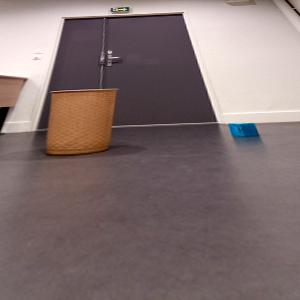medium: (47, 88, 115, 154)
small: (229, 121, 259, 138)
